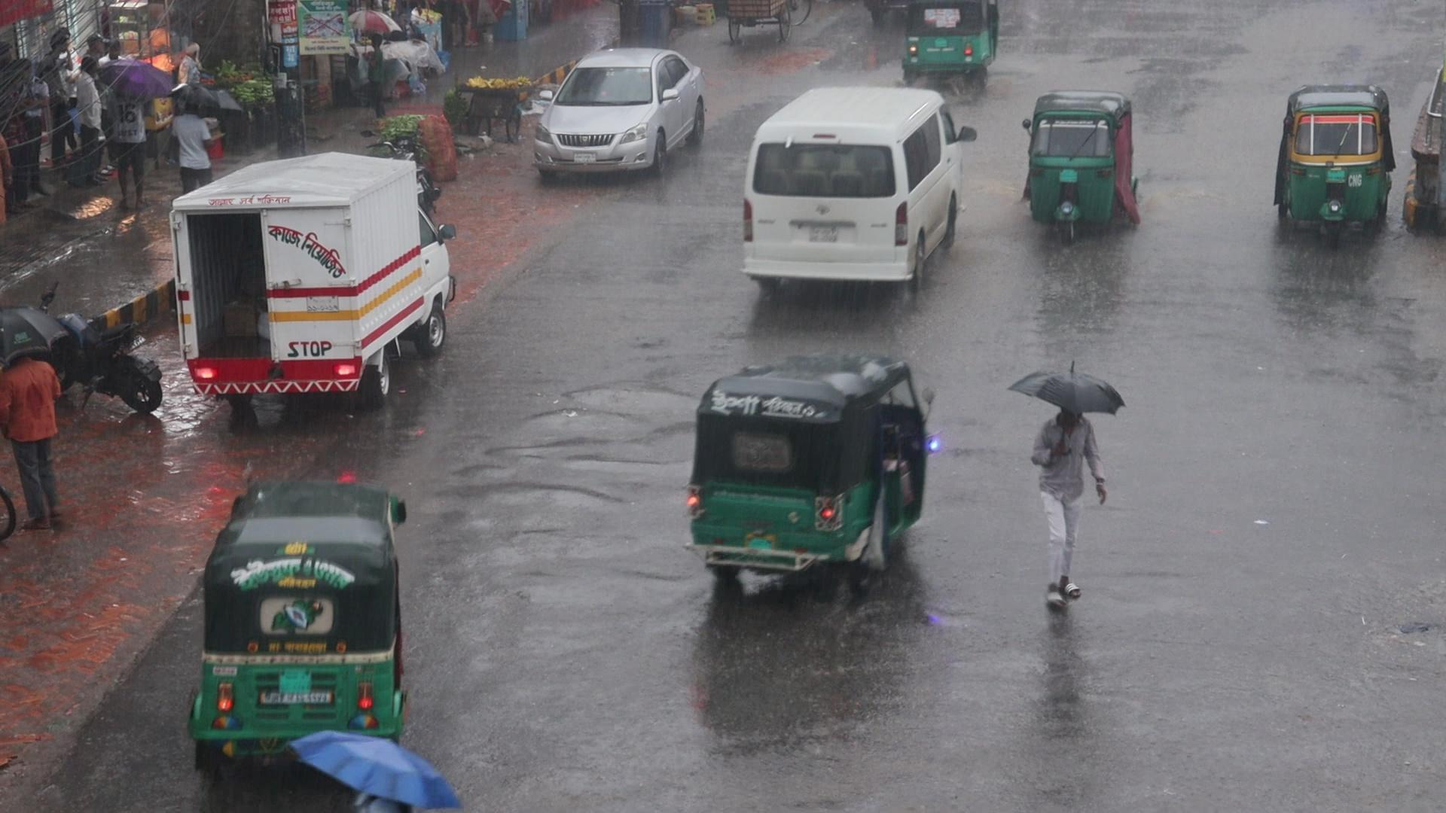Car: (738, 81, 979, 294), (531, 44, 709, 184)
